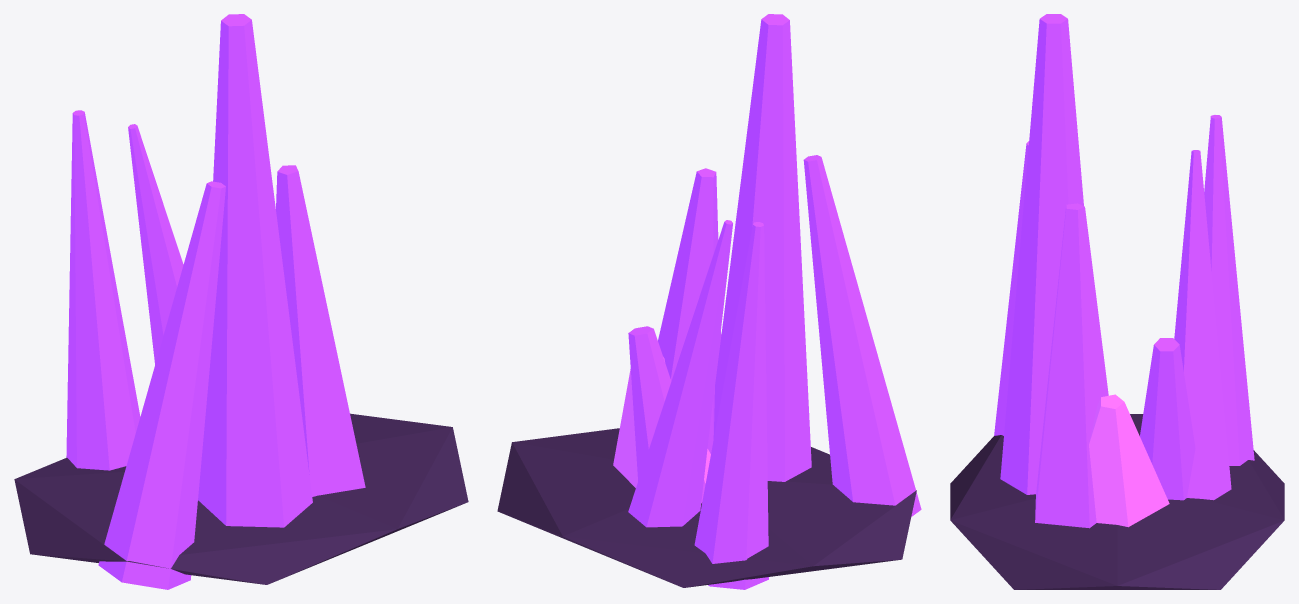
The model's file is mire_crystal_d.glb.
The picture shows the model from 3 angles, left to right: view 1: azimuth 30°, elevation 25°; view 2: azimuth 150°, elevation 25°; view 3: azimuth 270°, elevation 25°; orthographic projection. The views are drawn at different scales.
Parts seen in each view (by area): view 1: Crystal_6.002, Mire_Base.003, Crystal_5.003, Crystal_4.003, Crystal_7.001, Crystal_3.003; view 2: Mire_Base.003, Crystal_6.002, Crystal_5.003, Crystal_4.003, Crystal_3.003, Crystal_7.001, Crystal_2.003, Crystal_1.003; view 3: Mire_Base.003, Crystal_6.002, Crystal_7.001, Crystal_3.003, Crystal_4.003, Crystal_1.003, Crystal_2.003, Crystal_5.003.
Boxes of the visible parts, x1,y1,x2,y2 form: Crystal_6.002: (198,14,312,527); Mire_Base.003: (14,413,468,584); Crystal_5.003: (98,181,225,589); Crystal_4.003: (66,110,140,470); Crystal_7.001: (276,165,365,496); Crystal_3.003: (128,124,183,364); Mire_Base.003: (497,428,916,587); Crystal_6.002: (713,14,811,481); Crystal_5.003: (803,155,921,516); Crystal_4.003: (694,222,768,589); Crystal_3.003: (628,220,732,527); Crystal_7.001: (658,168,721,453); Crystal_2.003: (628,326,705,502); Crystal_1.003: (613,357,710,487); Mire_Base.003: (950,414,1284,589); Crystal_6.002: (1000,14,1083,494); Crystal_7.001: (1035,203,1108,528); Crystal_3.003: (1174,150,1231,500); Crystal_4.003: (1204,115,1254,465); Crystal_1.003: (1089,394,1169,527); Crystal_2.003: (1140,338,1195,500); Crystal_5.003: (994,141,1028,435).
Size of the model in its own units: 1.65 by 2 by 1.22.
